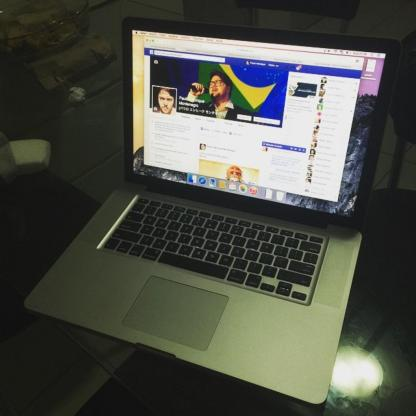board: (25, 20, 400, 404)
